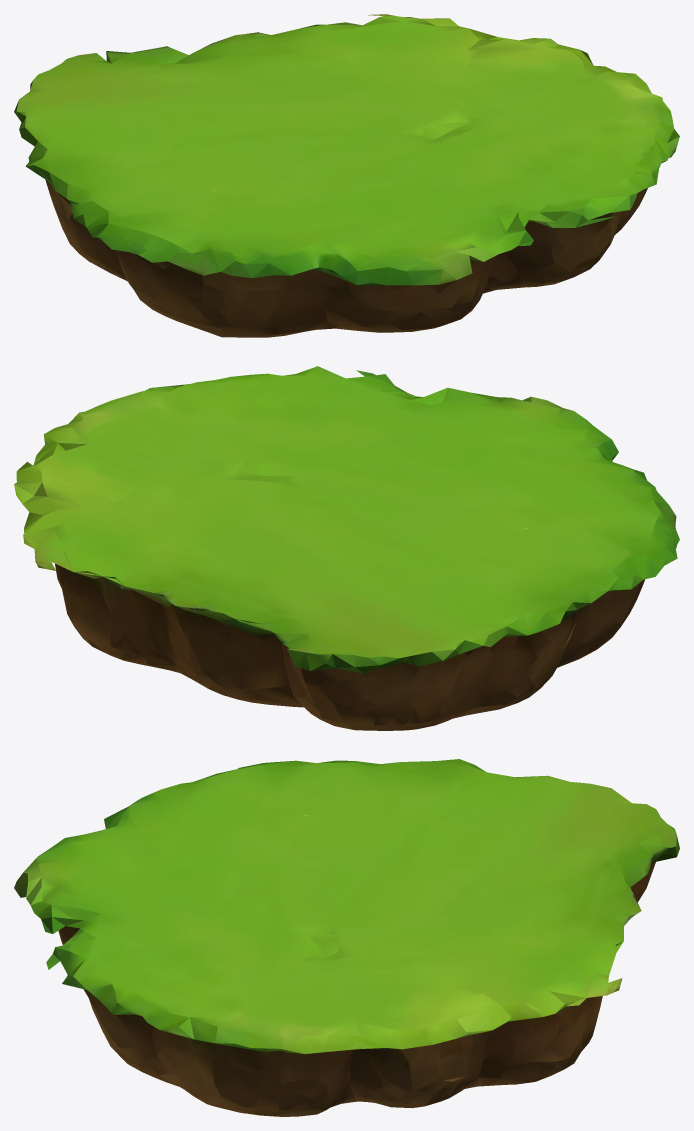
File: space_grassy-.glb
3 views of the same model, one above another, from view 1: azimuth 30°, elevation 25°; view 2: azimuth 150°, elevation 25°; view 3: azimuth 270°, elevation 25° (orthographic). The views are drawn at different scales.
Visible parts, largest first — view 1: world.001; view 2: world.001; view 3: world.001.
Boxes of the visible parts, x1,y1,x2,y2 form: world.001: (14, 14, 679, 337); world.001: (14, 366, 679, 730); world.001: (14, 759, 679, 1116).
Size of the model in its own units: 0.9899 by 0.2024 by 0.9449.
1 material, 1 textured.
